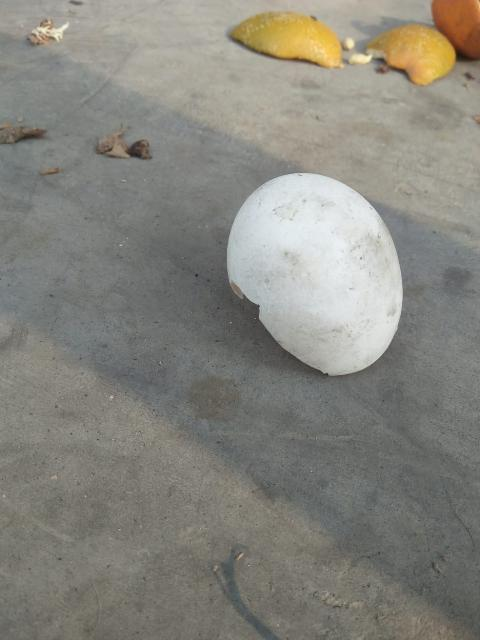Roto: (228, 170, 410, 380)
